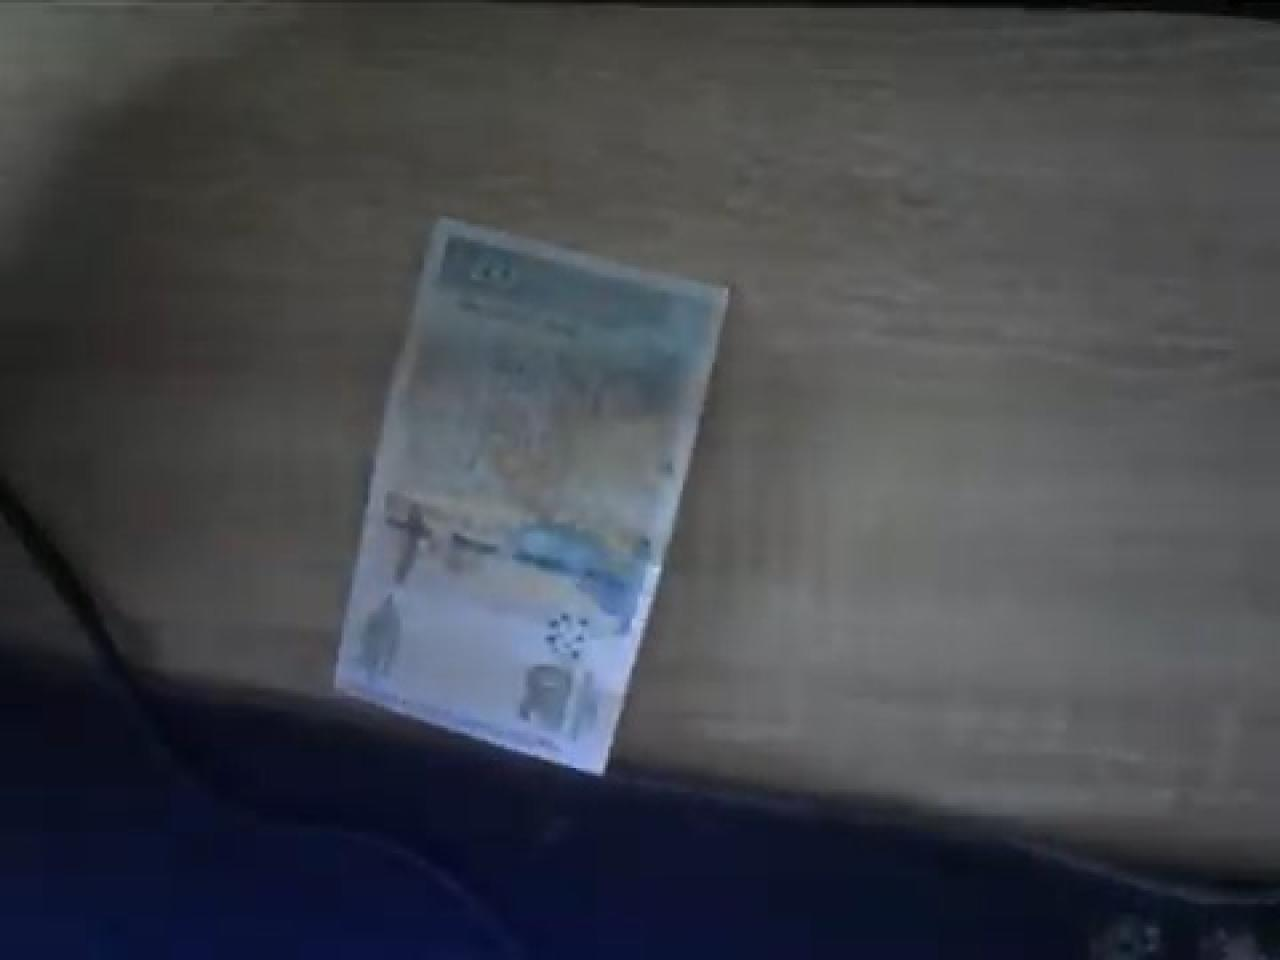20leva: (331, 216, 736, 782)
